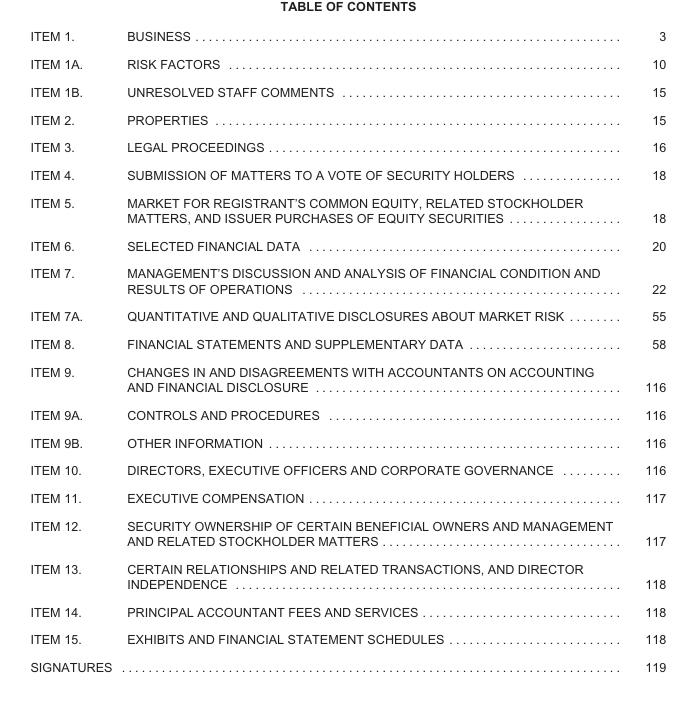table: (29, 28, 665, 673)
table column: (104, 28, 628, 673), (29, 28, 104, 673), (628, 28, 665, 673)
table column header: (29, 28, 665, 49)
table row: (29, 188, 665, 231), (29, 357, 665, 400), (29, 511, 665, 554), (29, 554, 665, 597), (29, 259, 665, 301), (29, 49, 665, 77), (29, 77, 665, 105), (29, 132, 665, 160), (29, 160, 665, 188), (29, 231, 665, 259), (29, 301, 665, 329), (29, 329, 665, 357), (29, 400, 665, 428), (29, 455, 665, 483), (29, 483, 665, 511), (29, 624, 665, 652), (29, 105, 665, 132), (29, 428, 665, 455), (29, 597, 665, 624), (29, 28, 665, 49), (29, 652, 665, 673)
table spanning cell: (29, 652, 628, 673)
